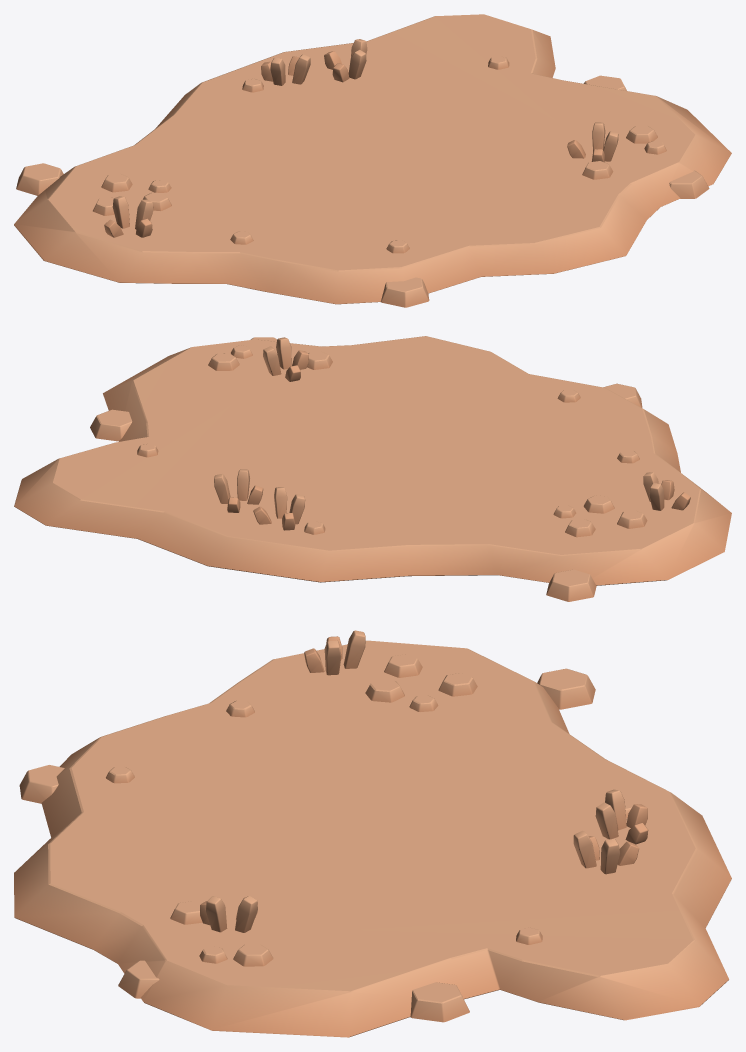
Rendered from kenney-pirate__patch-sand-foliage.glb.
The picture shows the model from 3 angles, top to bottom: view 1: azimuth 30°, elevation 25°; view 2: azimuth 150°, elevation 25°; view 3: azimuth 270°, elevation 25°; orthographic projection. The views are drawn at different scales.
Visible parts, largest first — view 1: patch-sand-foliage; view 2: patch-sand-foliage; view 3: patch-sand-foliage.
Boxes of the visible parts, x1,y1,x2,y2 form: patch-sand-foliage: (14,14,731,307); patch-sand-foliage: (14,336,731,601); patch-sand-foliage: (14,630,731,1037).
Bounding box in the file's own units: 7.72 × 0.5615 × 6.02.
Materials: 1 (1 with a texture image).
